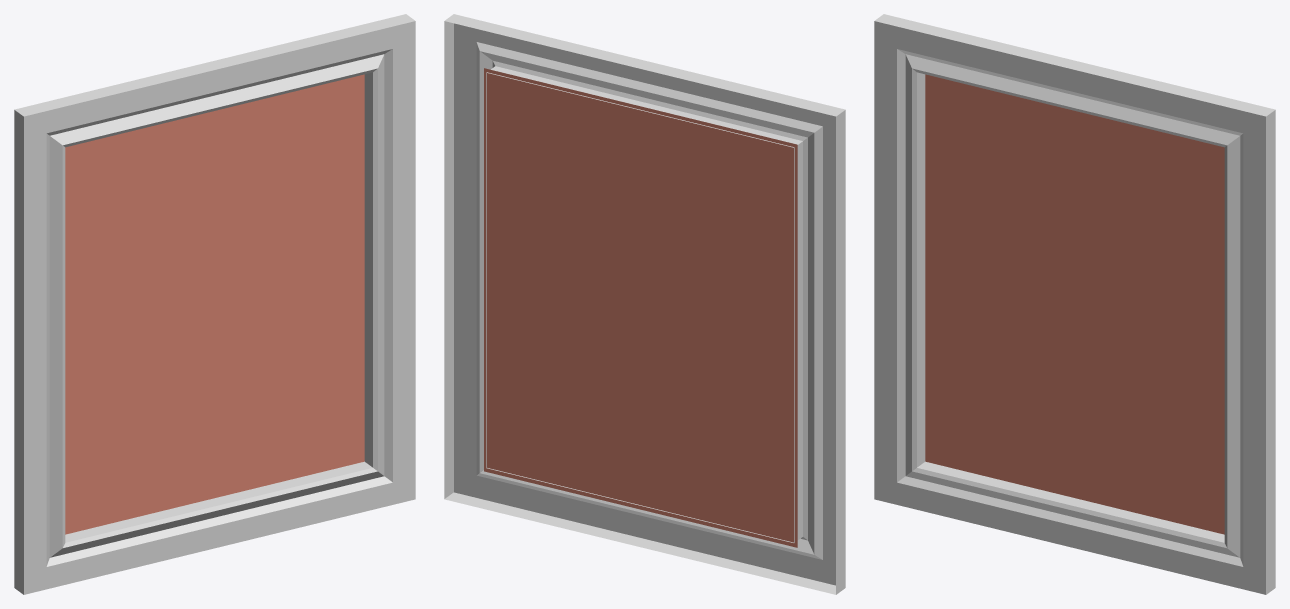
Rendered from SM_Props_Decor_06.fbx.
3 renders of one model, left to right at view 1: azimuth 30°, elevation 25°; view 2: azimuth 150°, elevation 25°; view 3: azimuth 330°, elevation 25°, orthographic.
Parts seen in each view (by area): view 1: SM_Props_Decor_06; view 2: SM_Props_Decor_06; view 3: SM_Props_Decor_06.
Boxes of the visible parts, x1,y1,x2,y2 form: SM_Props_Decor_06: (14,14,415,594); SM_Props_Decor_06: (444,14,845,594); SM_Props_Decor_06: (874,14,1275,594).
Bounding box in the file's own units: 232 × 270 × 10.37.
